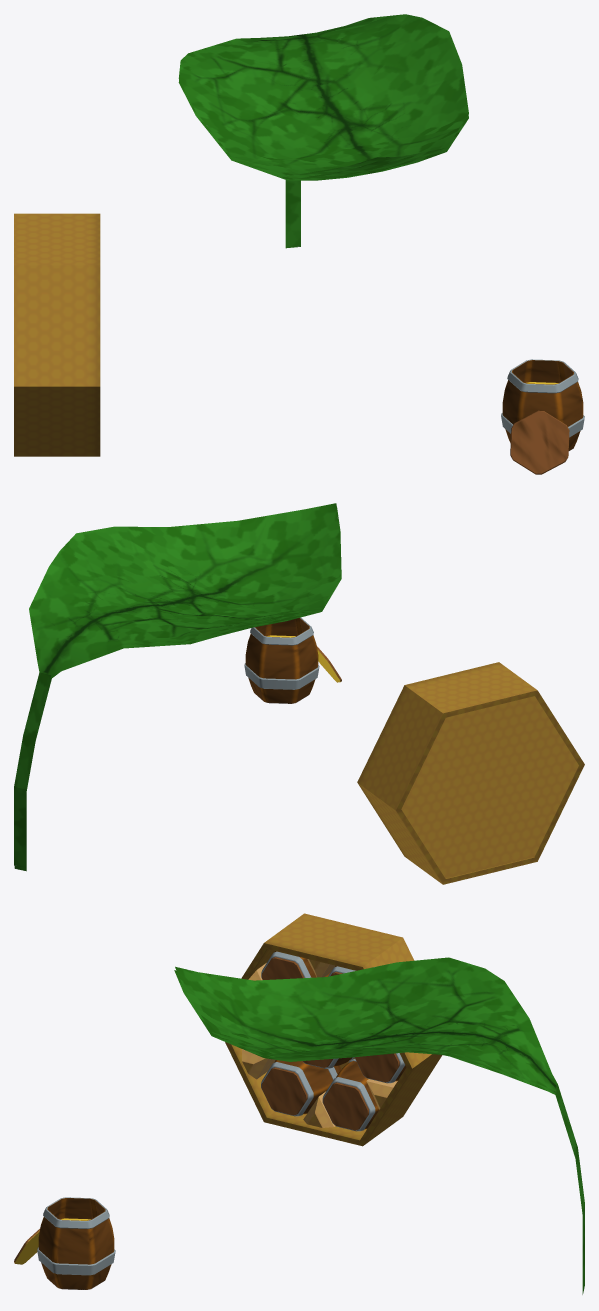
File: FactoryOutput.fbx
The picture shows the model from 3 angles, top to bottom: view 1: azimuth 30°, elevation 25°; view 2: azimuth 150°, elevation 25°; view 3: azimuth 270°, elevation 25°; orthographic projection. The views are drawn at different scales.
Visible parts, largest first — view 1: LeafTop_low; view 2: LeafTop_low; view 3: LeafTop_low.
Part boxes in pixels (left/top/right/bottom): LeafTop_low: left=14, top=14, right=584, bottom=474; LeafTop_low: left=14, top=503, right=584, bottom=884; LeafTop_low: left=14, top=913, right=584, bottom=1294.
Bounding box in the file's own units: 1.59 × 0.8655 × 1.68.
